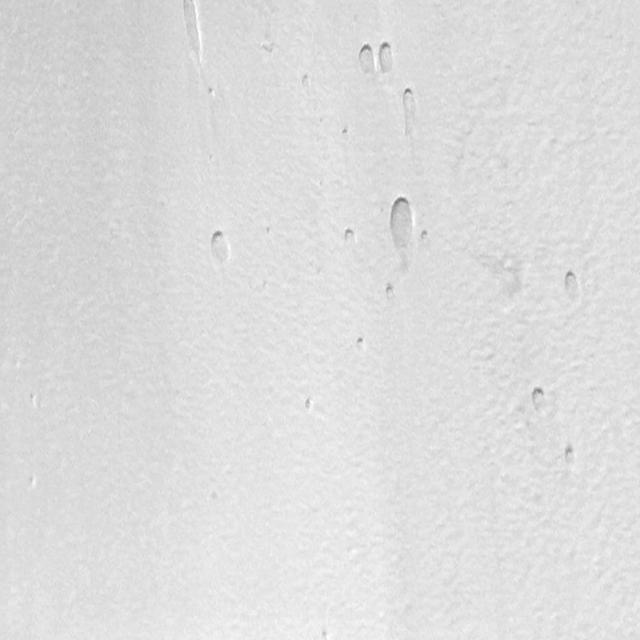pin holes: (385, 192, 417, 259), (206, 230, 234, 268), (397, 88, 420, 131), (376, 41, 399, 74), (357, 42, 379, 76), (562, 270, 585, 301), (530, 385, 553, 415), (561, 442, 580, 470), (340, 227, 360, 250), (25, 391, 43, 414), (260, 40, 278, 56), (303, 396, 317, 416), (355, 335, 369, 354), (300, 74, 313, 93), (384, 284, 396, 303), (418, 229, 431, 244), (339, 126, 351, 140), (318, 626, 331, 638), (205, 86, 216, 100), (265, 225, 273, 236)
